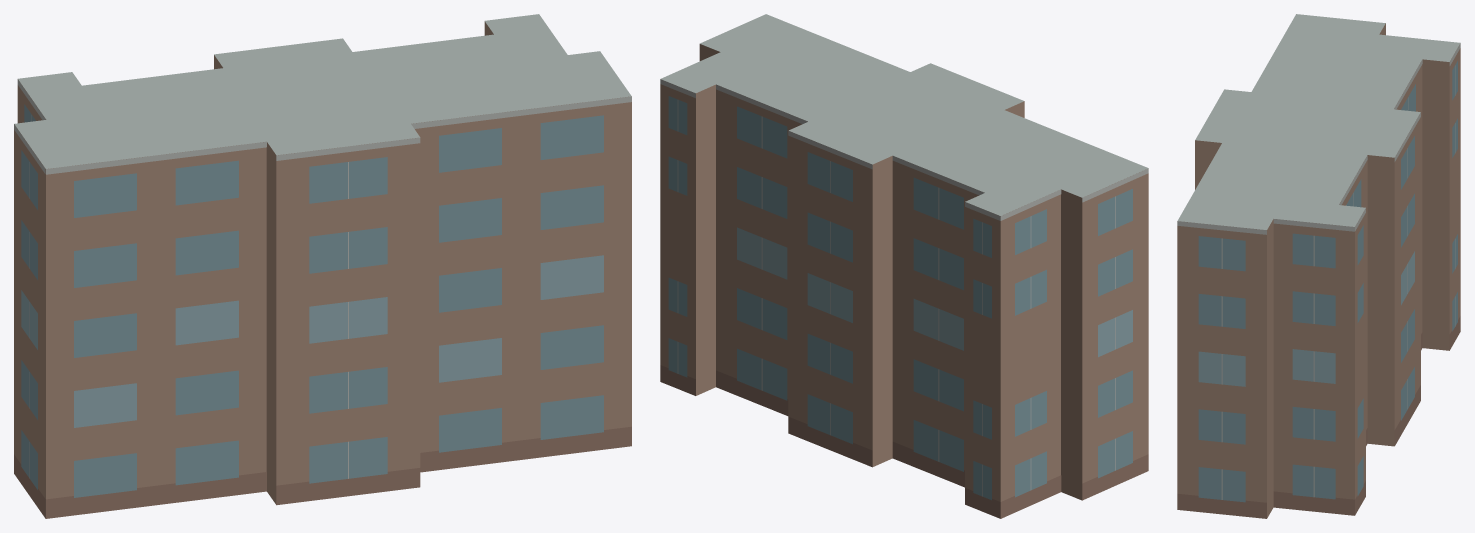
File: survey-upis-32871701.glb
3 views of the same model, side by side, from view 1: azimuth 30°, elevation 25°; view 2: azimuth 150°, elevation 25°; view 3: azimuth 270°, elevation 25° (orthographic). The views are drawn at different scales.
Visible parts, largest first — view 1: survey-upis-32871701.tmp; view 2: survey-upis-32871701.tmp; view 3: survey-upis-32871701.tmp.
Part boxes in pixels (bbox=[...]): survey-upis-32871701.tmp: bbox=[14, 14, 631, 518]; survey-upis-32871701.tmp: bbox=[660, 14, 1148, 518]; survey-upis-32871701.tmp: bbox=[1177, 14, 1460, 518].
Size of the model in its own units: 23.93 by 14.9 by 13.26.
